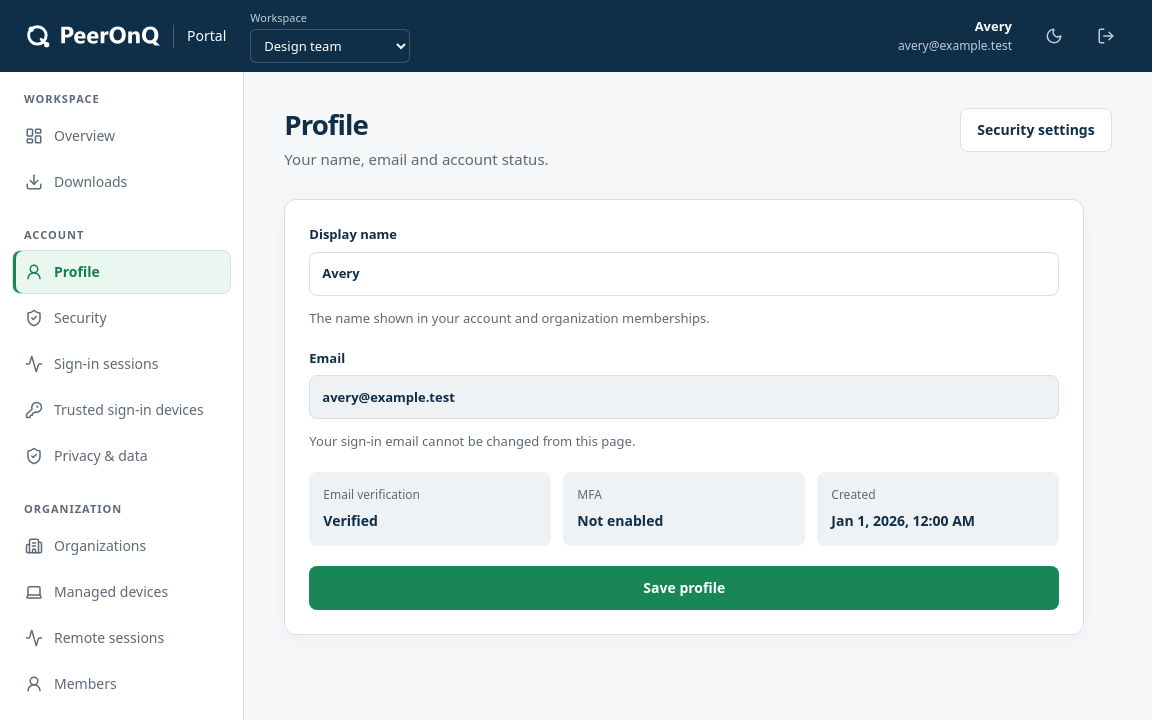
Test: customer portal product UX › shows a failed profile save, then allows a successful retry
The width and height of the screenshot is (1152, 720).
Replace the text in the field labelled "Display name" with "Avery Updated" at (684, 274), box [309,252,1059,296]
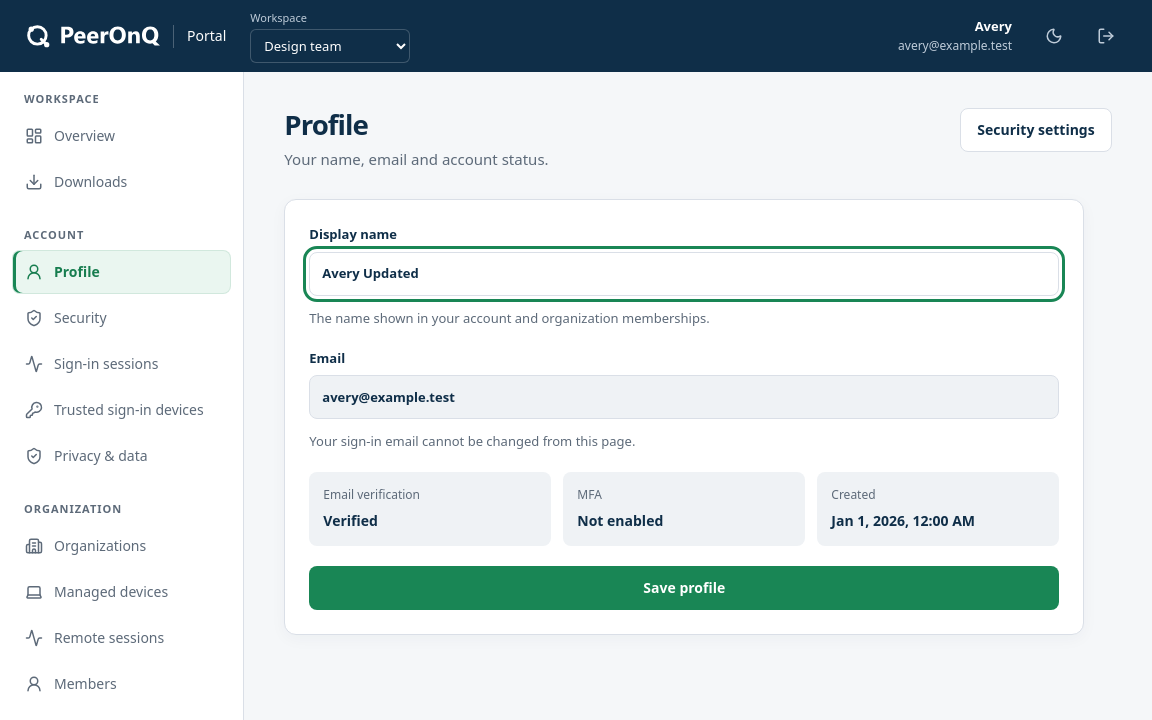
Click the button "Save profile".
click(684, 588)  # box [309,566,1059,610]
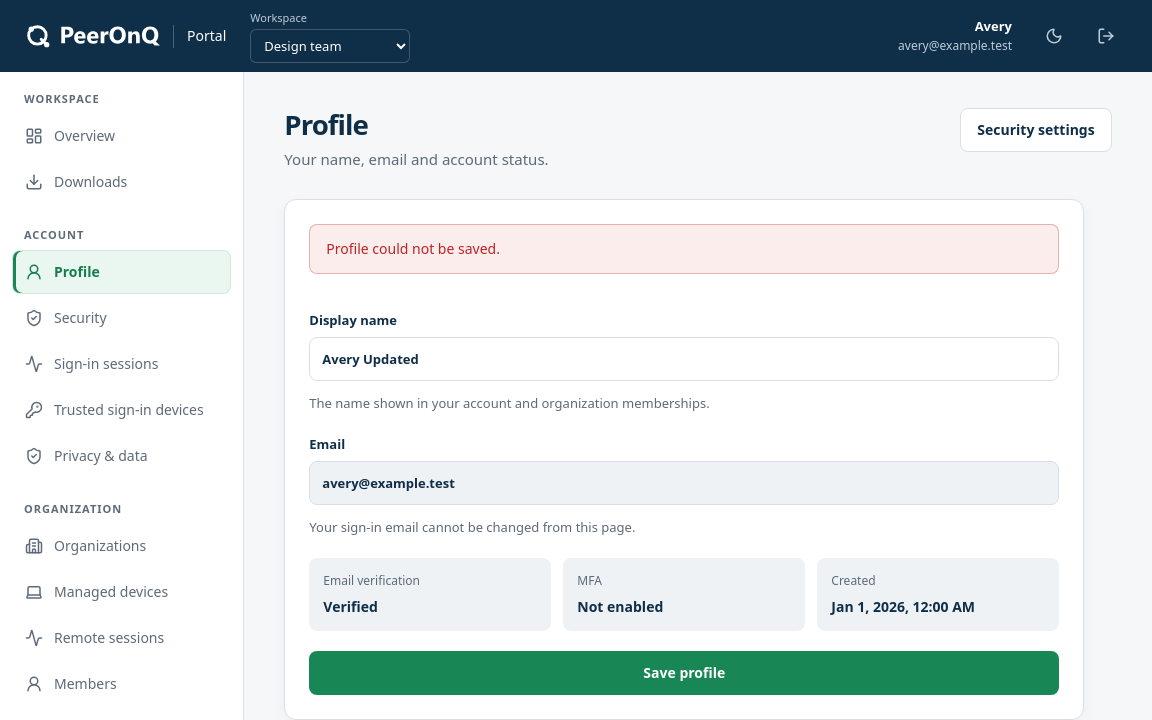
Now the message reads "Profile could not be saved.", box [326,239,500,258]
Click the button "Save profile".
click(684, 673)  # box [309,651,1059,695]
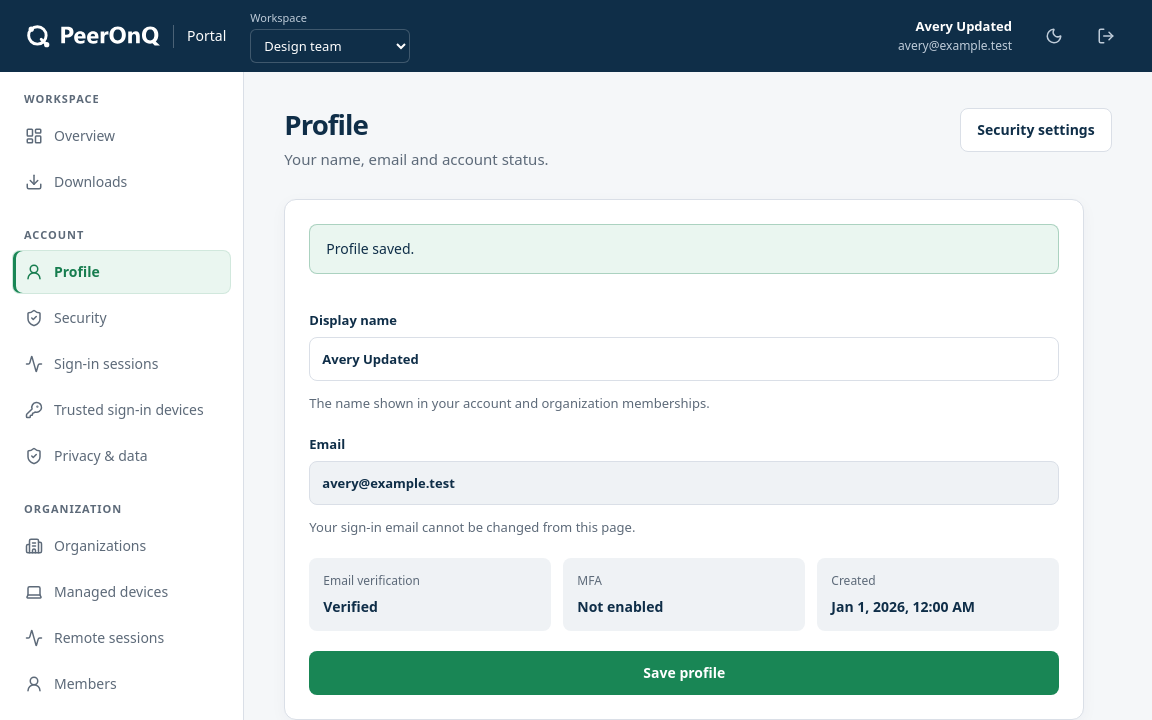
Now the text "Profile saved." is shown, box [309,224,1059,274]
